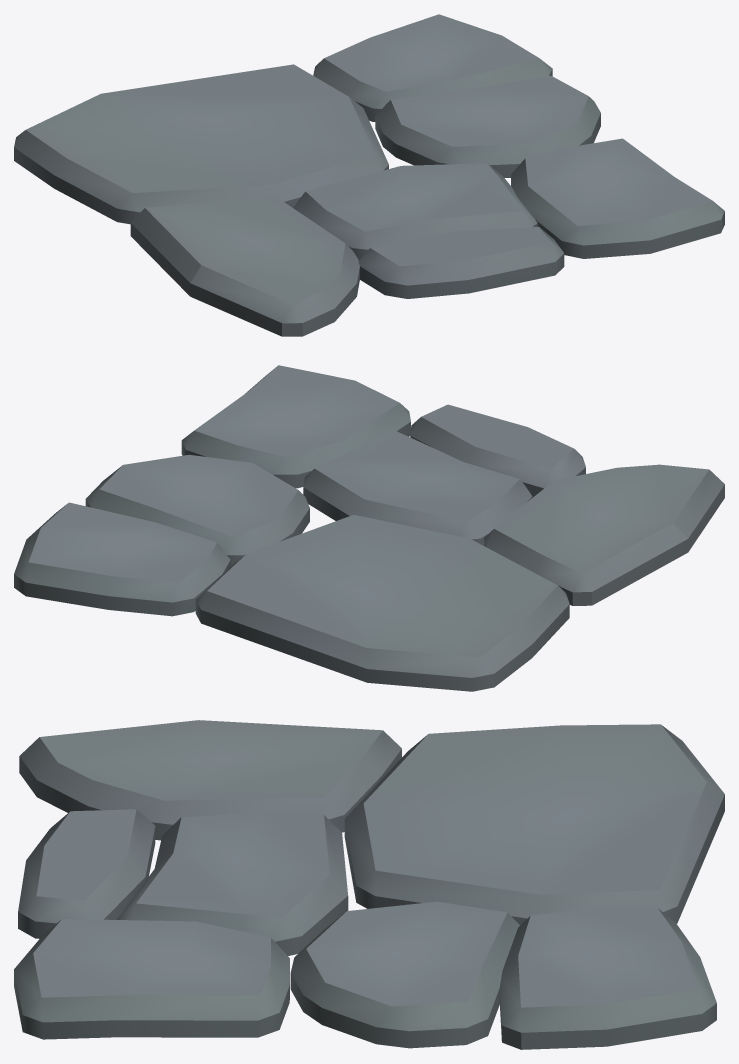
Rendered from path_A.glb.
3 renders of one model, top to bottom at view 1: azimuth 30°, elevation 25°; view 2: azimuth 150°, elevation 25°; view 3: azimuth 270°, elevation 25°, orthographic. The views are drawn at different scales.
Parts seen in each view (by area): view 1: path_A; view 2: path_A; view 3: path_A.
Part boxes in pixels (x1,y1,x2,y2): path_A: (14, 14, 724, 336); path_A: (14, 365, 724, 691); path_A: (14, 720, 724, 1049).
Size of the model in its own units: 1.9 by 0.0999 by 1.88.
1 material, 1 textured.
